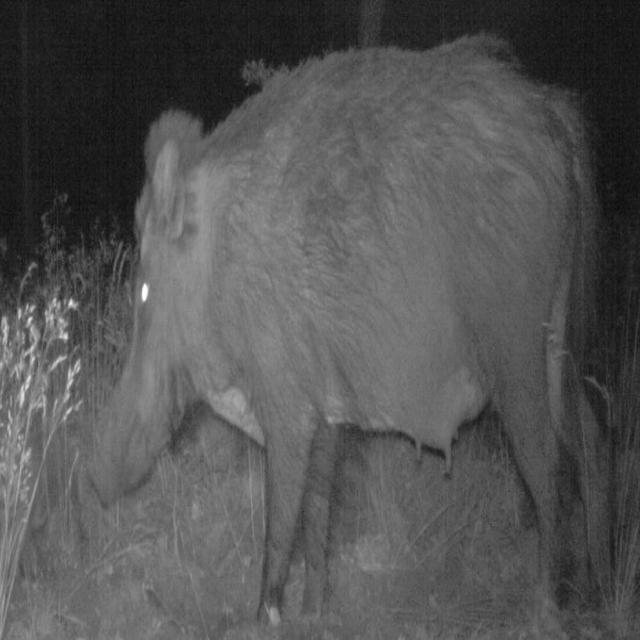pig: (88, 23, 640, 579)
